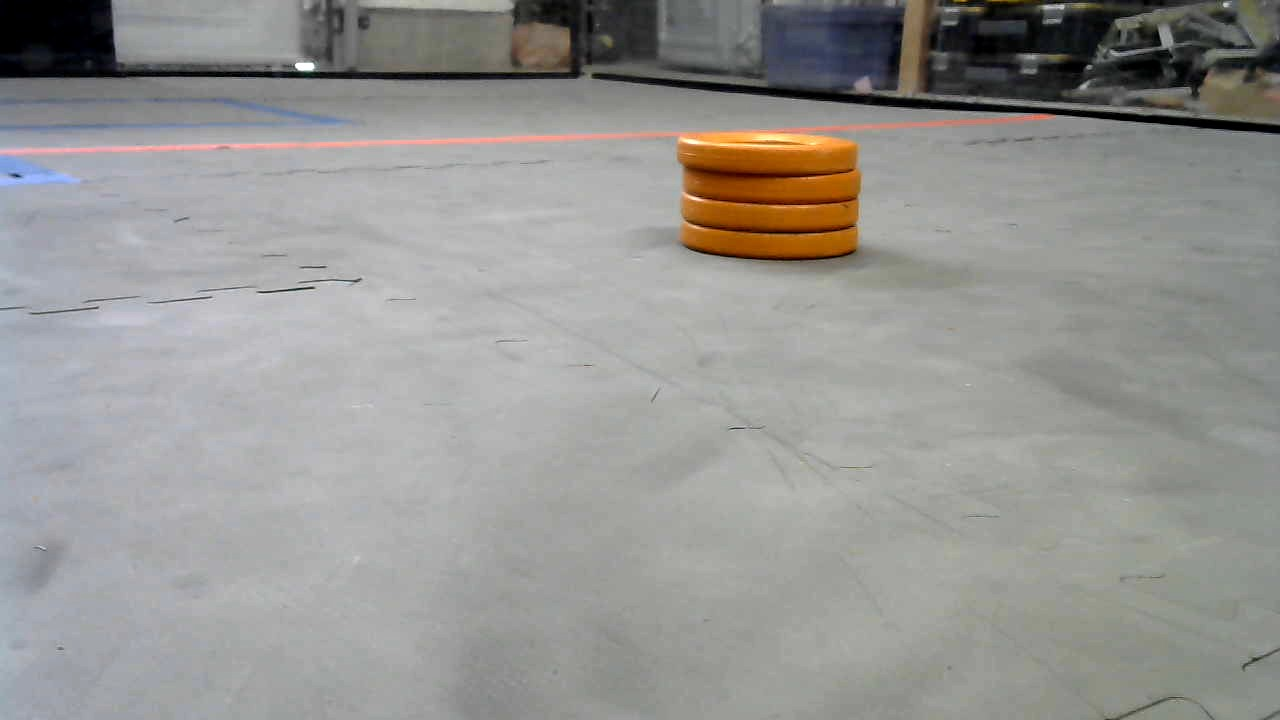FourStack: (678, 134, 859, 254)
